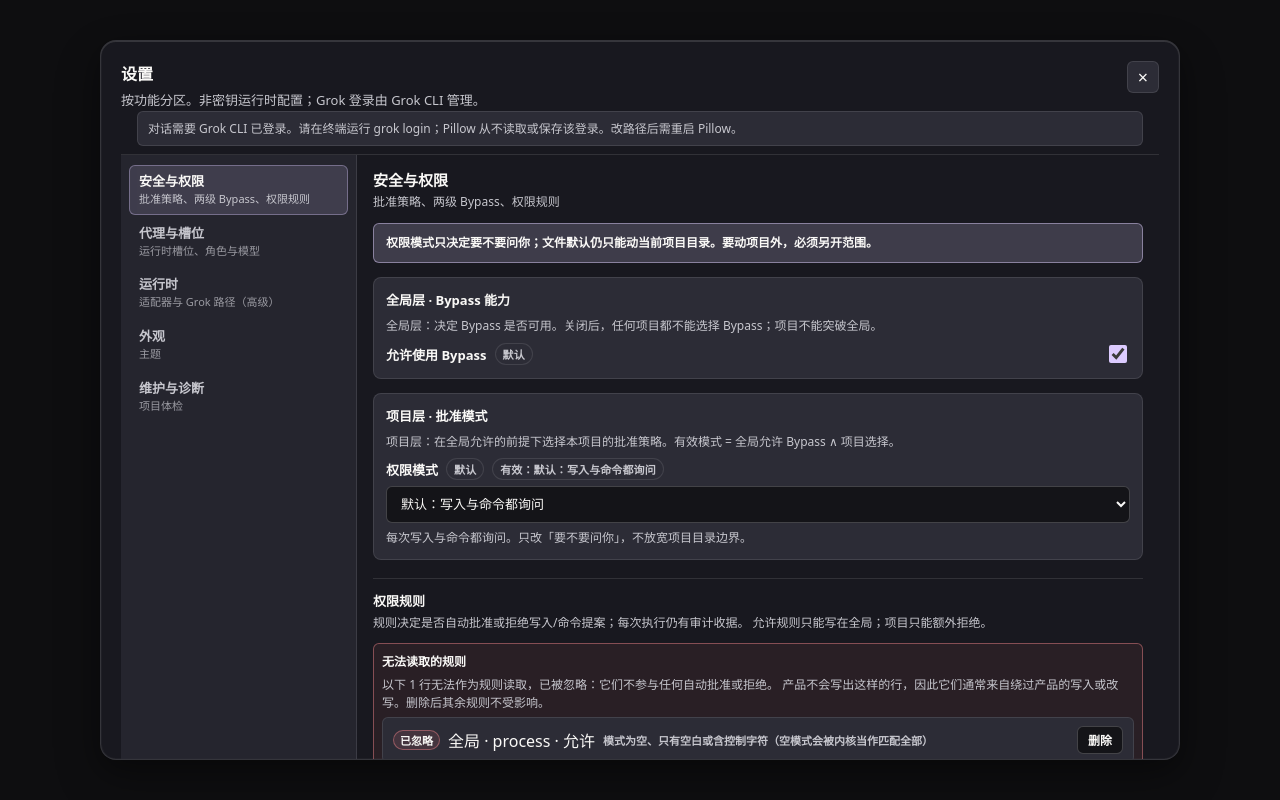
Test: Permission rules — unreadable row recovery › 1b — shows a quarantined row with its reason and removes it in-product
The width and height of the screenshot is (1280, 800).
Expected: the message with test id "permission-rules-unreadable-note" shows "已被忽略", [382,676,1118,711]
Expected: the text with test id "permission-rule-unreadable-shape" shows "全局", [448,730,595,752]
Click the button with test id "permission-rule-unreadable-delete" at [1100, 740], box [1077,726,1123,754]
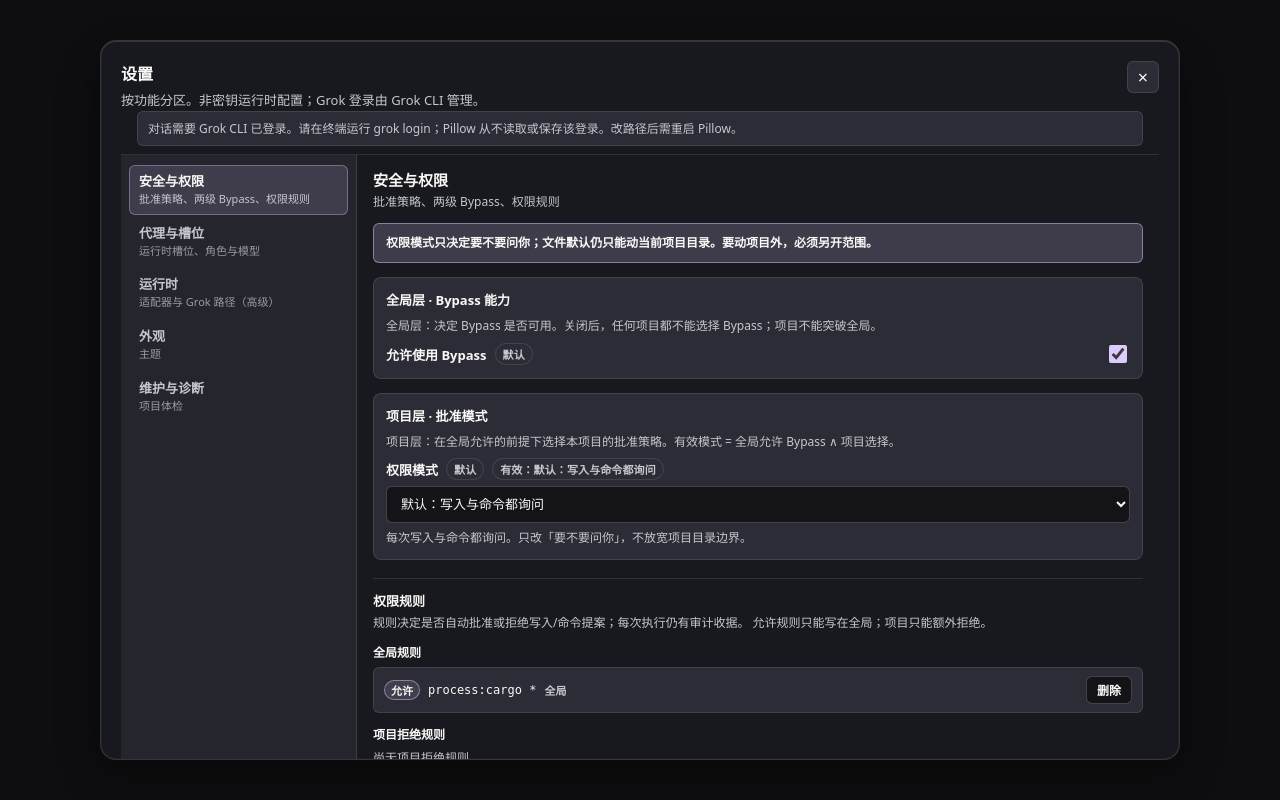
Expected: the element with test id "permission-rules-unreadable-block" is gone
Expected: the list with test id "permission-rules-global-list" is shown, [373,667,1143,713]
